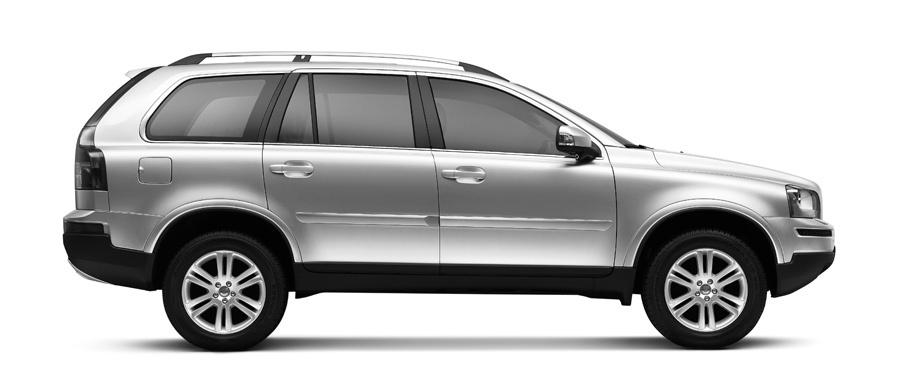car: (61, 49, 837, 351)
